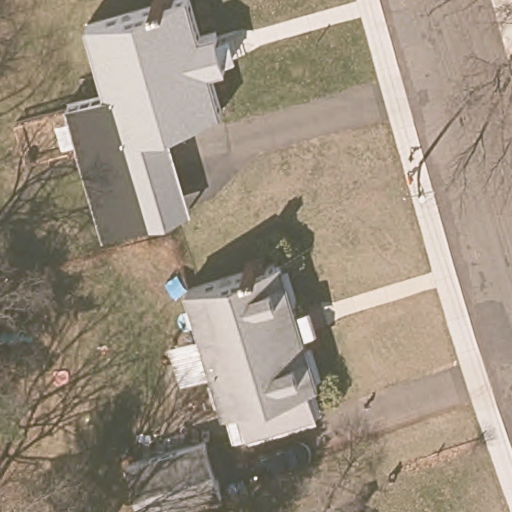DT: (402, 146, 433, 203)
